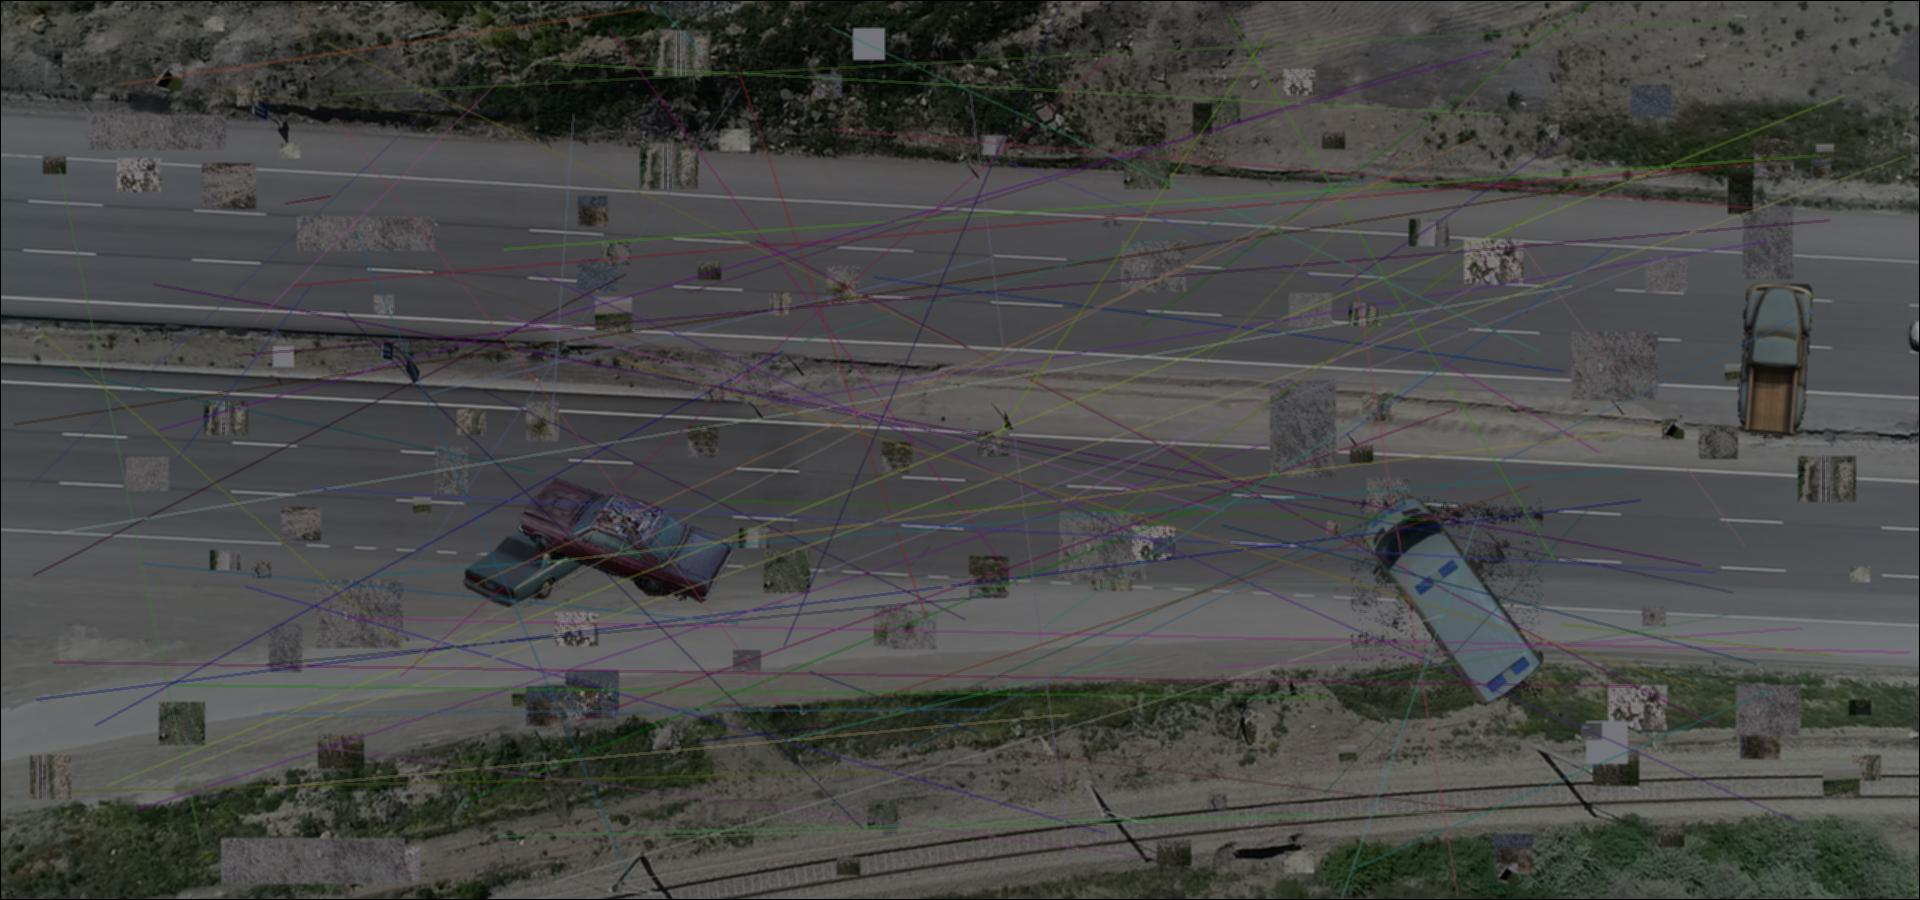arac: (1351, 495, 1543, 707), (516, 471, 737, 602), (456, 509, 628, 607), (1738, 284, 1813, 438)
